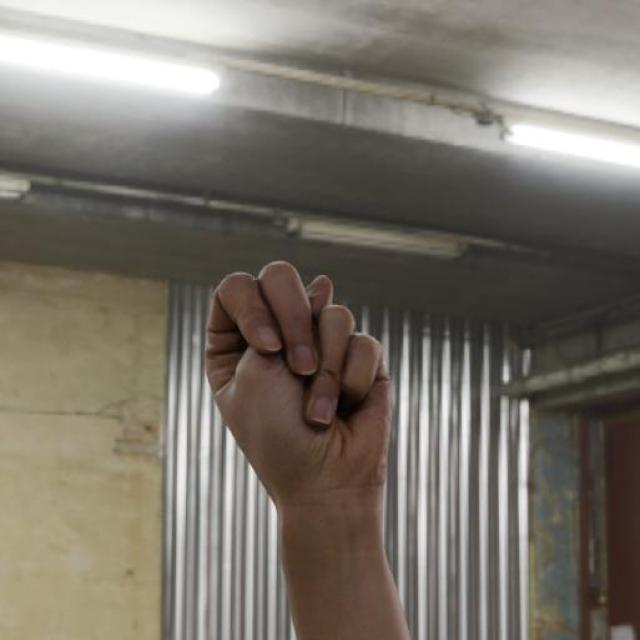N: (198, 258, 396, 507)
